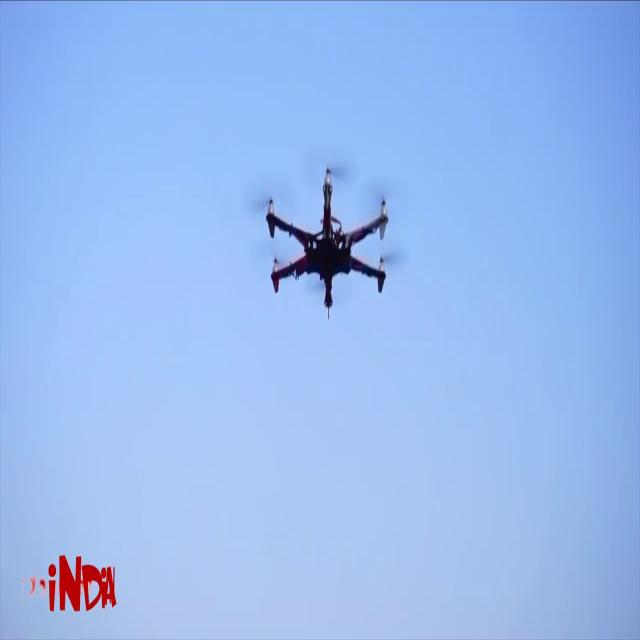drone: (247, 172, 408, 336)
